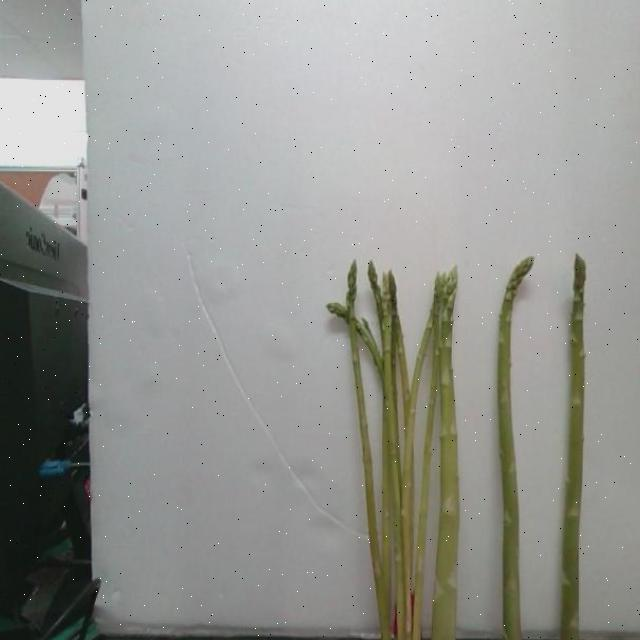aspargus: (494, 258, 536, 640), (561, 256, 589, 640)
